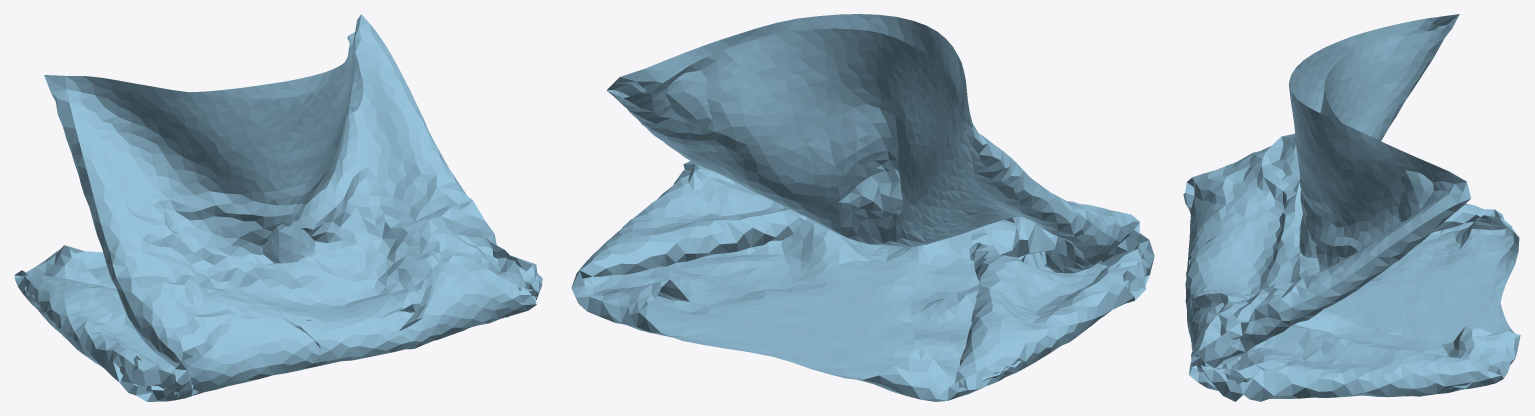
Rendered from frame_17.glb.
3 views of the same model, side by side, from view 1: azimuth 30°, elevation 25°; view 2: azimuth 150°, elevation 25°; view 3: azimuth 270°, elevation 25° (orthographic). The views are drawn at different scales.
Visible parts, largest first — view 1: frame_17.obj; view 2: frame_17.obj; view 3: frame_17.obj.
Part boxes in pixels (x1,y1,x2,y2): frame_17.obj: [14, 14, 542, 401]; frame_17.obj: [571, 14, 1154, 401]; frame_17.obj: [1183, 14, 1520, 401].
Size of the model in its own units: 1.21 by 0.6623 by 0.8827.
